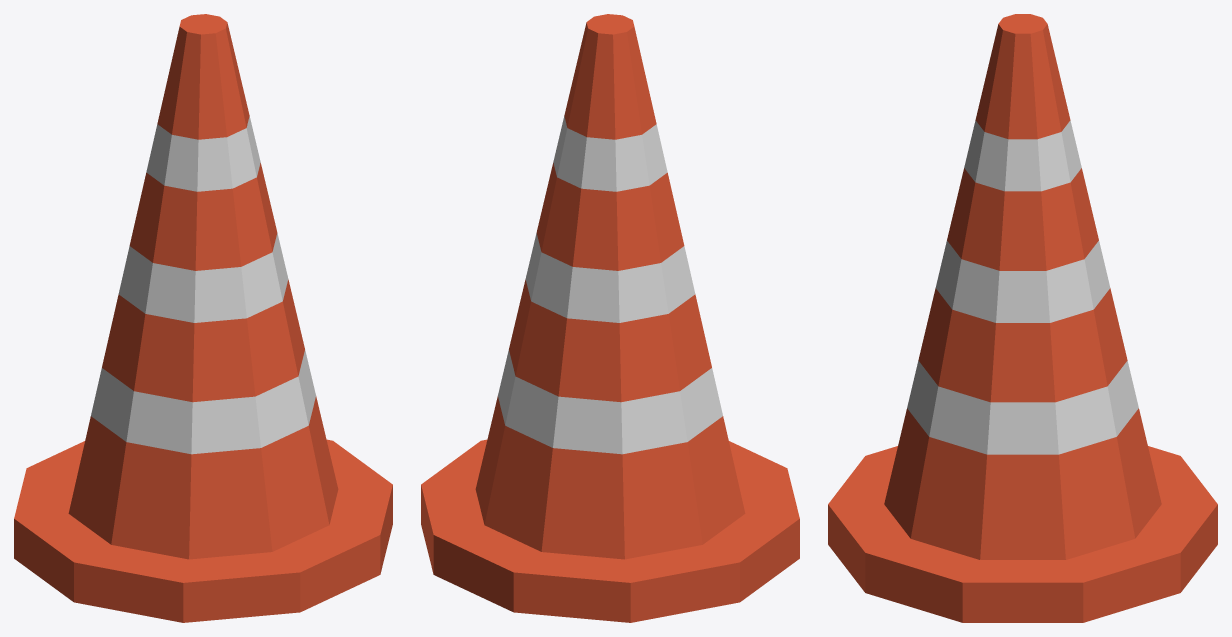
Rendered from Kuzel.fbx.
3 views of the same model, side by side, from view 1: azimuth 30°, elevation 25°; view 2: azimuth 150°, elevation 25°; view 3: azimuth 270°, elevation 25° (orthographic).
Parts seen in each view (by area): view 1: Cylinder.002; view 2: Cylinder.002; view 3: Cylinder.002.
Boxes of the visible parts, box(x1,y1,x2,y2) form: Cylinder.002: box(14, 14, 392, 622); Cylinder.002: box(421, 14, 799, 622); Cylinder.002: box(828, 14, 1217, 622).
Size of the model in its own units: 16.67 by 25.84 by 17.53.
